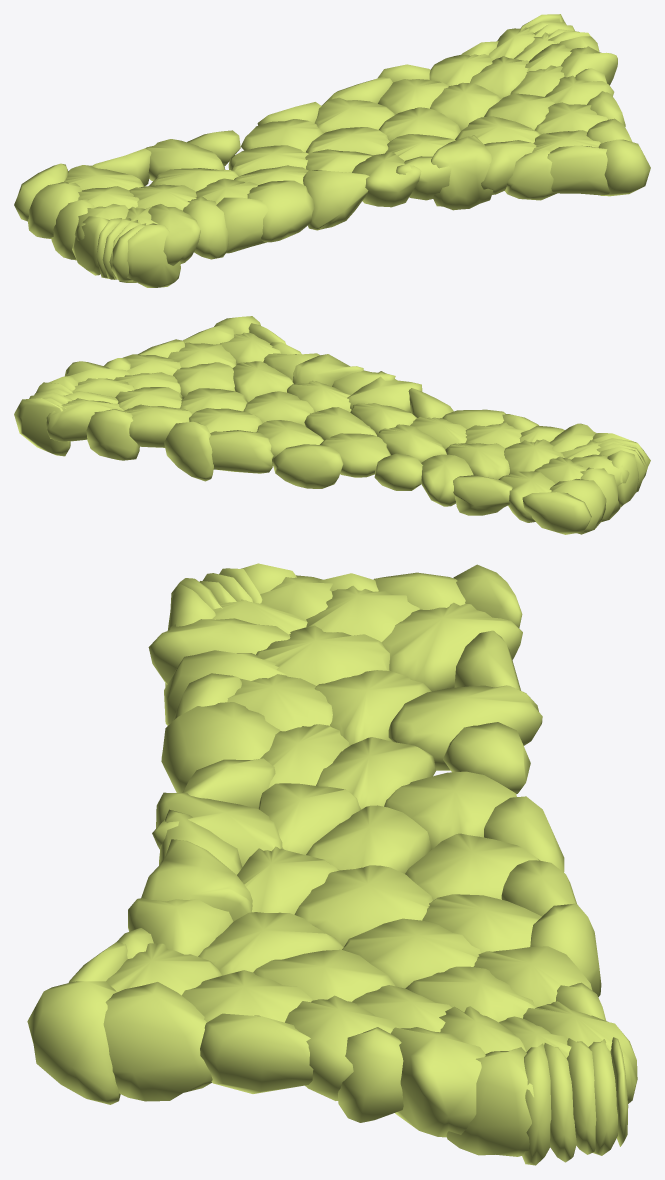
The model's file is Islands1.004_fog.fbx.
3 views of the same model, one above another, from view 1: azimuth 30°, elevation 25°; view 2: azimuth 150°, elevation 25°; view 3: azimuth 270°, elevation 25° (orthographic). The views are drawn at different scales.
Parts seen in each view (by area): view 1: Island1.004_fog_cell.055, Island1.004_fog_cell.030, Island1.004_fog_cell.031, Island1.004_fog_cell.045, Island1.004_fog_cell.003, Island1.004_fog_cell.060, Island1.004_fog_cell.048, Island1.004_fog_cell.036, Island1.004_fog_cell.013, Island1.004_fog_cell.004, Island1.004_fog_cell.037, Island1.004_fog_cell.035 (+45 smaller); view 2: Island1.004_fog_cell.063, Island1.004_fog_cell.061, Island1.004_fog_cell.040, Island1.004_fog_cell.009, Island1.004_fog_cell.002, Island1.004_fog_cell.015, Island1.004_fog_cell.022, Island1.004_fog_cell.012, Island1.004_fog_cell.001, Island1.004_fog_cell.005, Island1.004_fog_cell.035, Island1.004_fog_cell.049 (+43 smaller); view 3: Island1.004_fog_cell.053, Island1.004_fog_cell.048, Island1.004_fog_cell.039, Island1.004_fog_cell.051, Island1.004_fog_cell.035, Island1.004_fog_cell.050, Island1.004_fog_cell.064, Island1.004_fog_cell.031, Island1.004_fog_cell, Island1.004_fog_cell.015, Island1.004_fog_cell.004, Island1.004_fog_cell.041 (+48 smaller).
Boxes of the visible parts, <box> form: Island1.004_fog_cell.055: <box>431,135,493,210</box>; Island1.004_fog_cell.030: <box>303,170,369,230</box>; Island1.004_fog_cell.031: <box>247,180,314,242</box>; Island1.004_fog_cell.045: <box>547,145,609,195</box>; Island1.004_fog_cell.003: <box>127,223,180,287</box>; Island1.004_fog_cell.060: <box>352,152,421,207</box>; Island1.004_fog_cell.048: <box>598,139,650,196</box>; Island1.004_fog_cell.036: <box>216,197,268,253</box>; Island1.004_fog_cell.013: <box>314,97,394,133</box>; Island1.004_fog_cell.004: <box>430,82,500,130</box>; Island1.004_fog_cell.037: <box>148,204,200,265</box>; Island1.004_fog_cell.035: <box>145,139,225,180</box>; Island1.004_fog_cell.063: <box>272,444,343,488</box>; Island1.004_fog_cell.061: <box>209,430,273,473</box>; Island1.004_fog_cell.040: <box>522,492,591,534</box>; Island1.004_fog_cell.009: <box>164,421,213,481</box>; Island1.004_fog_cell.002: <box>86,409,139,460</box>; Island1.004_fog_cell.015: <box>320,433,390,477</box>; Island1.004_fog_cell.022: <box>453,475,512,515</box>; Island1.004_fog_cell.012: <box>123,404,192,447</box>; Island1.004_fog_cell.001: <box>46,398,124,441</box>; Island1.004_fog_cell.005: <box>14,398,70,456</box>; Island1.004_fog_cell.035: <box>421,454,473,506</box>; Island1.004_fog_cell.049: <box>233,361,293,402</box>; Island1.004_fog_cell.053: <box>103,982,212,1101</box>; Island1.004_fog_cell.048: <box>27,981,120,1104</box>; Island1.004_fog_cell.039: <box>390,1027,485,1137</box>; Island1.004_fog_cell.051: <box>200,1013,313,1093</box>; Island1.004_fog_cell.035: <box>388,685,542,770</box>; Island1.004_fog_cell.050: <box>294,865,432,947</box>; Island1.004_fog_cell.064: <box>381,602,522,691</box>; Island1.004_fog_cell.031: <box>161,702,280,792</box>; Island1.004_fog_cell: <box>446,1047,534,1156</box>; Island1.004_fog_cell.015: <box>384,771,516,849</box>; Island1.004_fog_cell.004: <box>342,918,480,988</box>; Island1.004_fog_cell.041: <box>306,805,431,873</box>.
Bounding box in the file's own units: 98.77 × 10.29 × 47.91.
